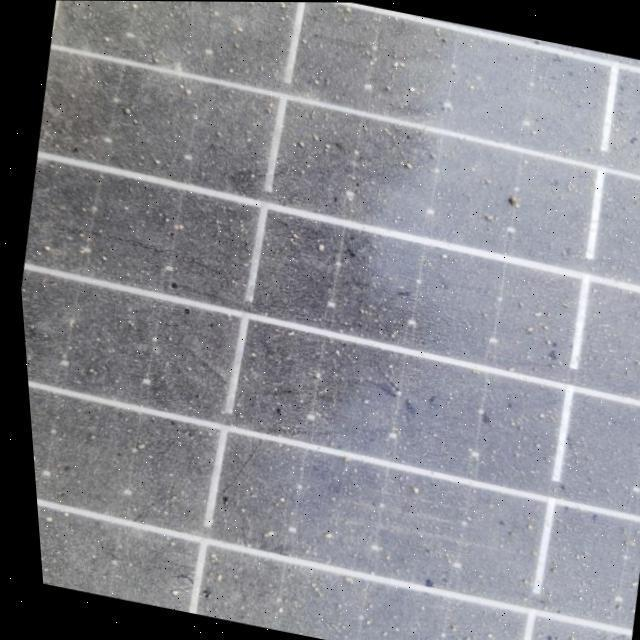Surface Contaminant: (17, 0, 640, 640)
